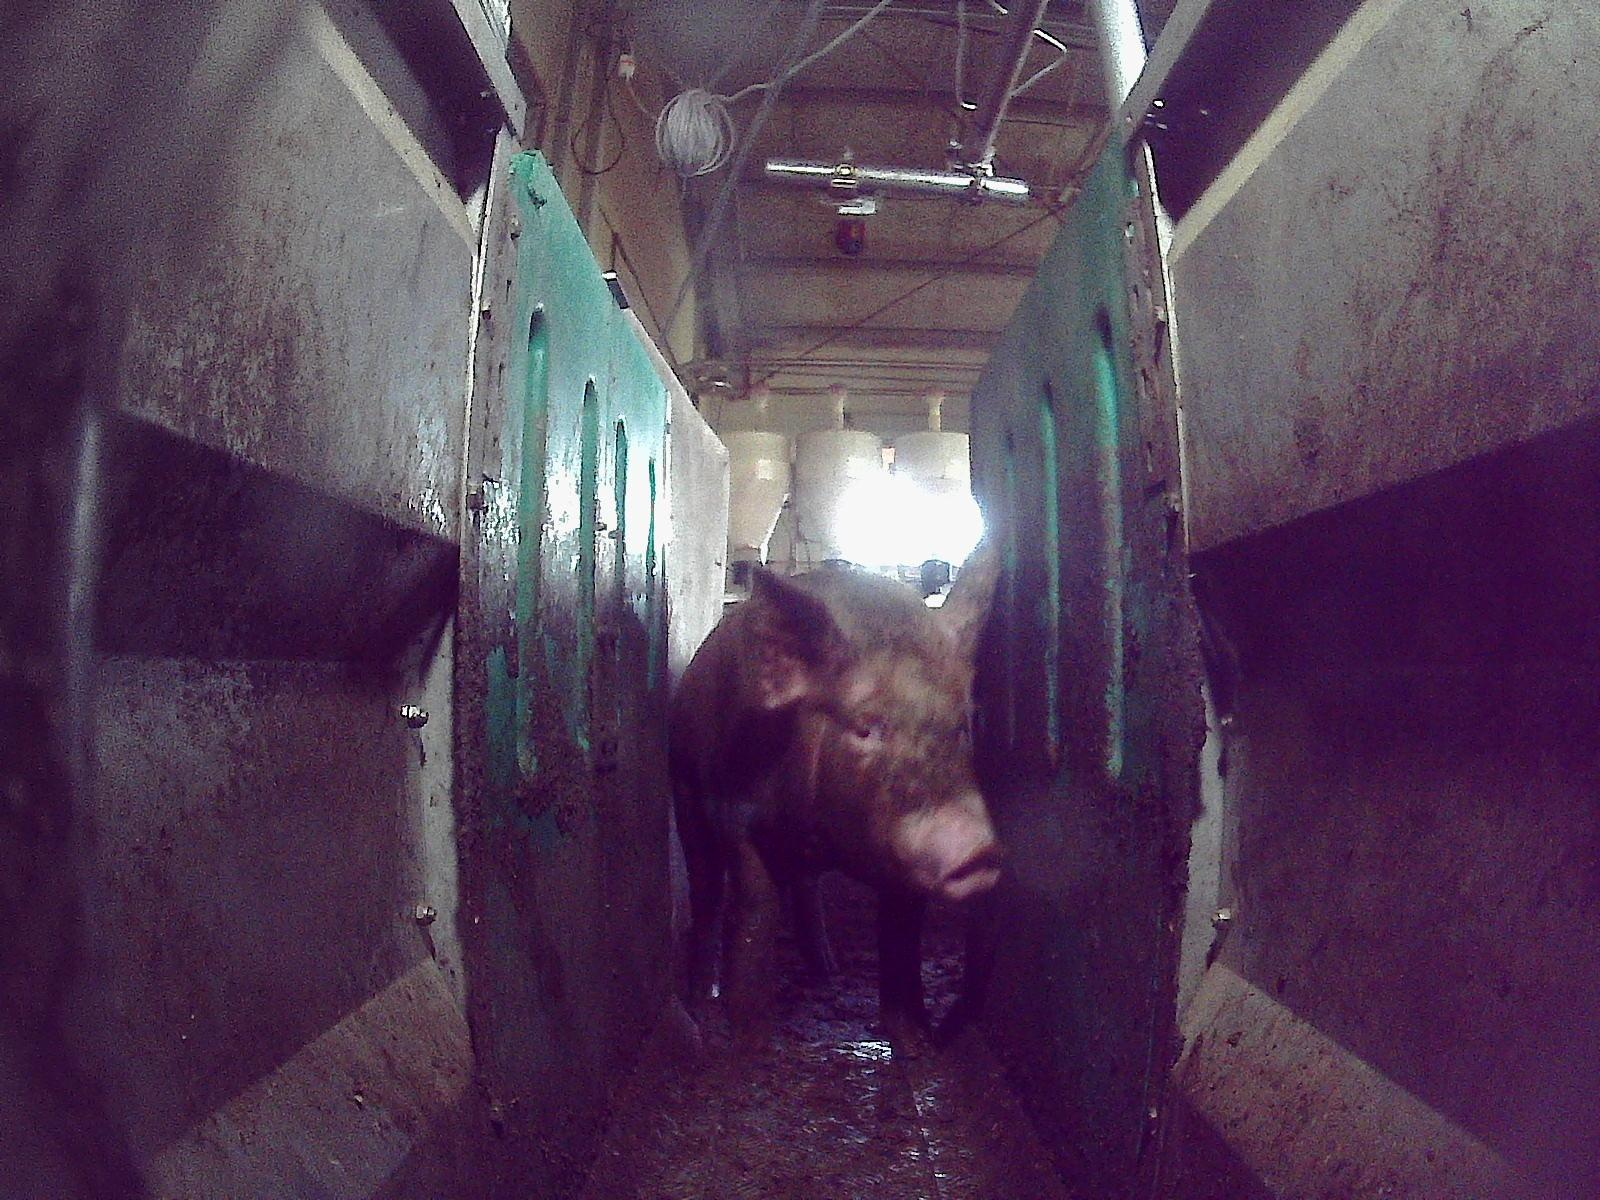Face: (783, 630, 1005, 901)
